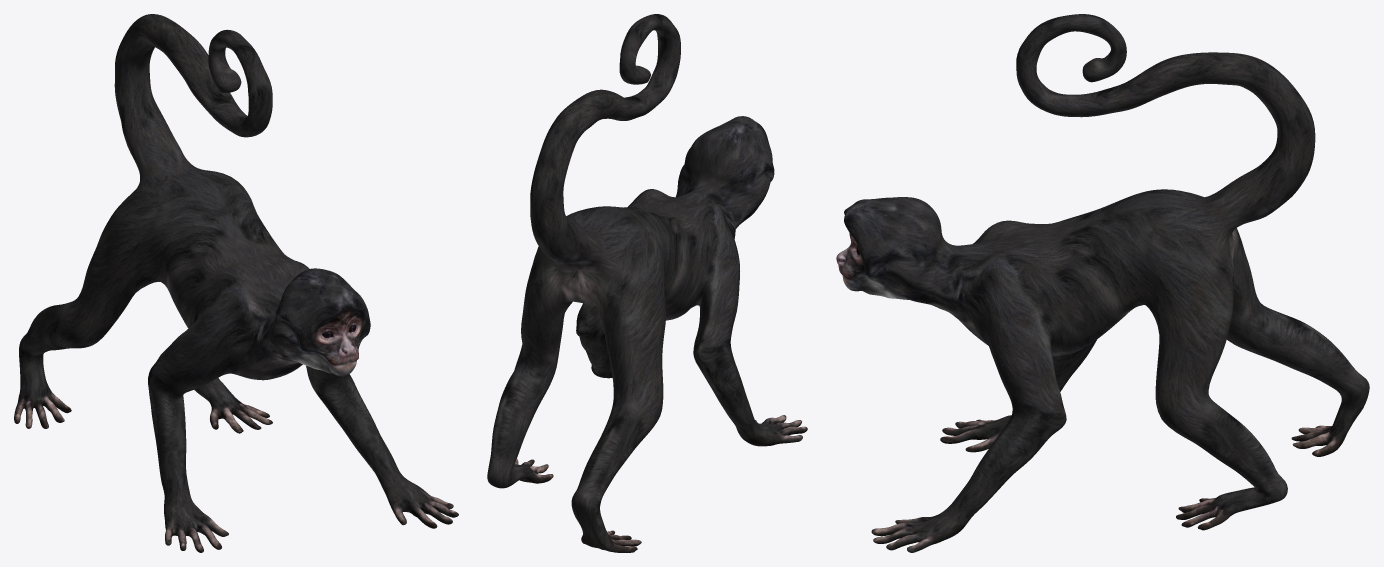
Rendered from monkey.glb.
3 views of the same model, side by side, from view 1: azimuth 30°, elevation 25°; view 2: azimuth 150°, elevation 25°; view 3: azimuth 270°, elevation 25° (orthographic). The views are drawn at different scales.
Visible parts, largest first — view 1: 12958_Spider_Monkey_v1_l2; view 2: 12958_Spider_Monkey_v1_l2; view 3: 12958_Spider_Monkey_v1_l2.
Part boxes in pixels (x1,y1,x2,y2): 12958_Spider_Monkey_v1_l2: [14, 14, 458, 552]; 12958_Spider_Monkey_v1_l2: [487, 14, 807, 552]; 12958_Spider_Monkey_v1_l2: [836, 14, 1369, 552].
Bounding box in the file's own units: 10.06 × 17.03 × 17.51.
1 material, 1 textured.
